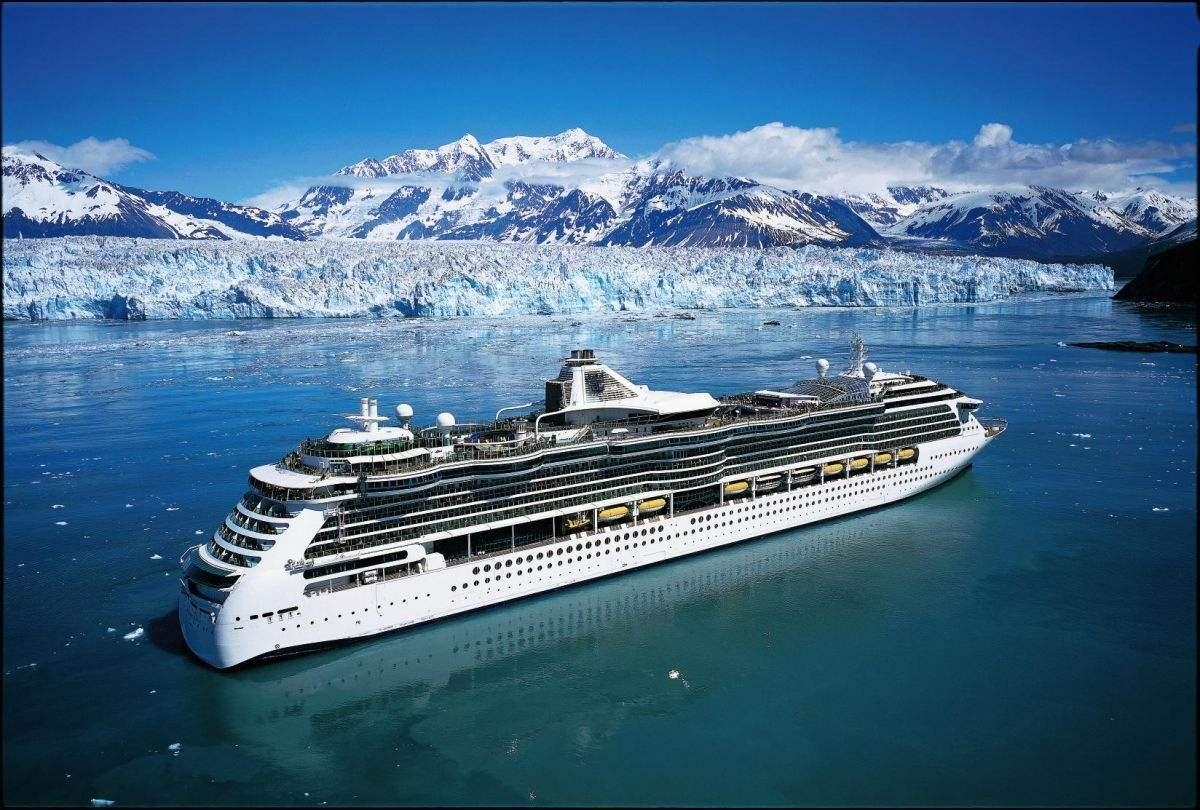youlun: (177, 323, 1007, 675)
